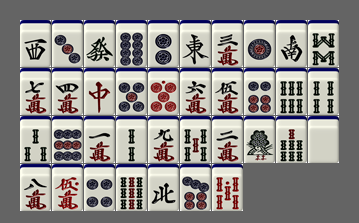0m: (52, 164, 83, 211)
0p: (148, 68, 179, 115)
0s: (212, 164, 243, 211)
1m: (84, 116, 115, 163)
1p: (244, 20, 275, 67)
1s: (244, 116, 275, 163)
1z: (180, 20, 211, 67)
2m: (212, 116, 243, 163)
2p: (148, 20, 179, 67)
2s: (116, 116, 147, 163)
2z: (276, 20, 307, 67)
3m: (212, 20, 243, 67)
3p: (52, 20, 83, 67)
3s: (20, 116, 51, 163)
3z: (20, 20, 51, 67)
4m: (52, 68, 83, 115)
4p: (84, 164, 115, 211)
4s: (308, 68, 339, 115)
4z: (148, 164, 179, 211)
5m: (212, 68, 243, 115)
5p: (116, 68, 147, 115)
5s: (180, 116, 211, 163)
5z: (308, 116, 339, 163)
6m: (180, 68, 211, 115)
6p: (244, 68, 275, 115)
6s: (276, 68, 307, 115)
6z: (84, 20, 115, 67)
7m: (20, 68, 51, 115)
7p: (180, 164, 211, 211)
7s: (276, 116, 307, 163)
7z: (84, 68, 115, 115)
8m: (20, 164, 51, 211)
8p: (116, 20, 147, 67)
8s: (308, 20, 339, 67)
9m: (148, 116, 179, 163)
9p: (52, 116, 83, 163)
9s: (116, 164, 147, 211)
